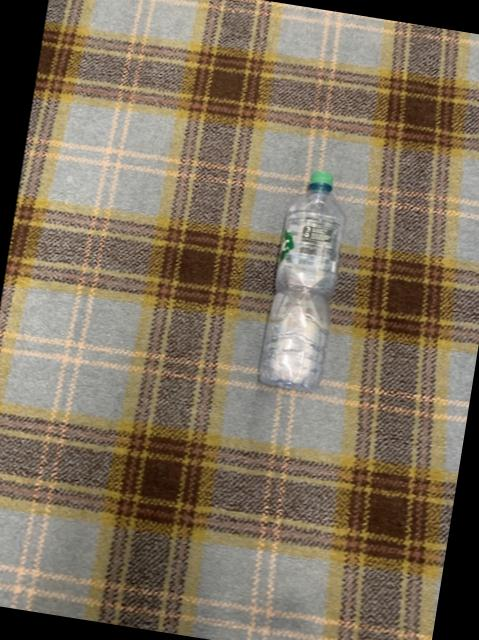plastic: (257, 170, 343, 388)
